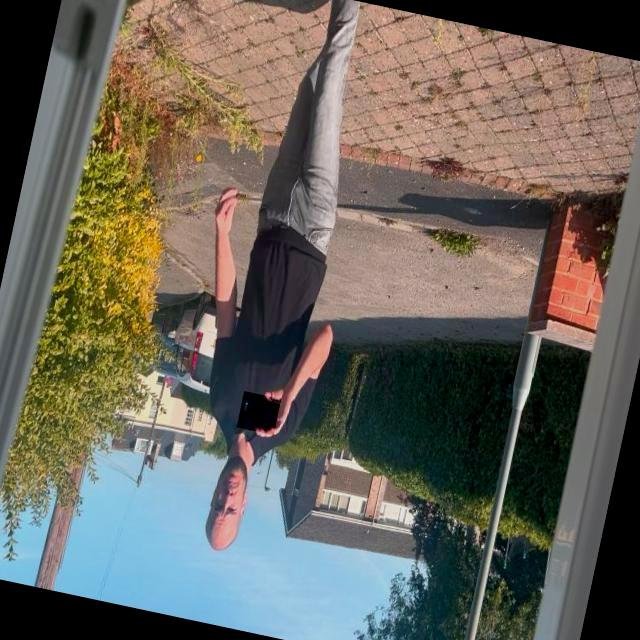phone: (236, 391, 281, 435)
